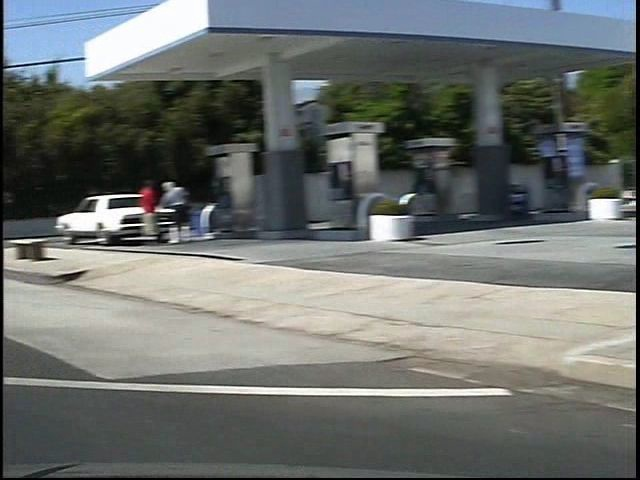person: (135, 172, 174, 241), (115, 175, 140, 246)
